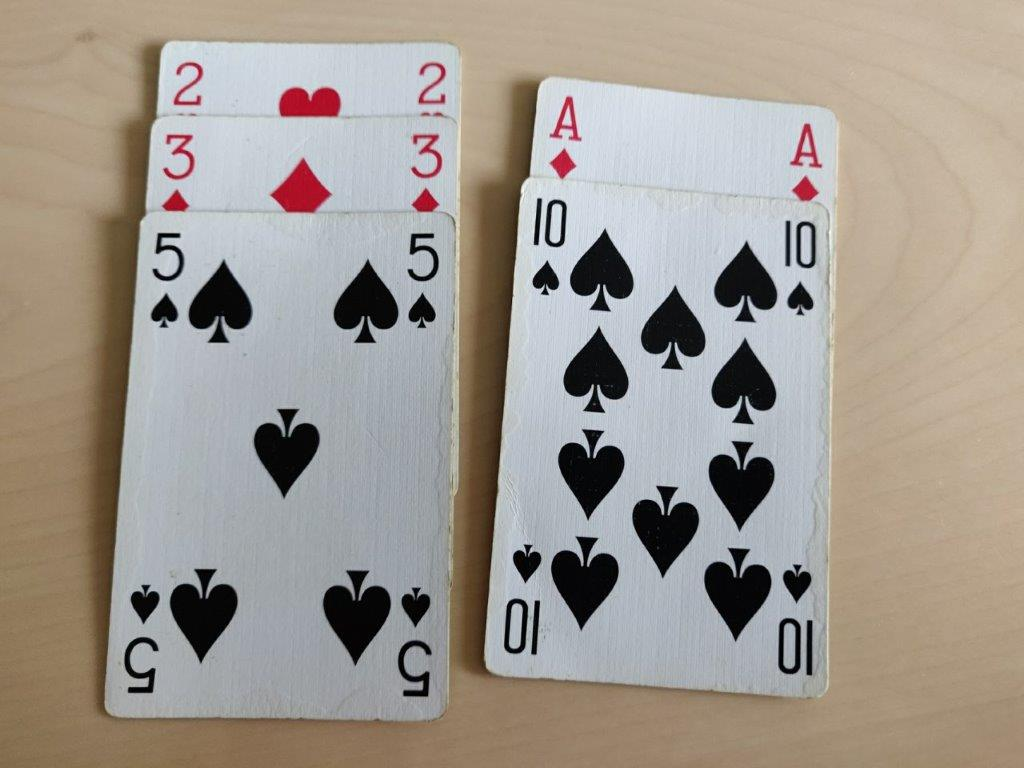10S: (519, 195, 572, 304), (779, 216, 827, 322)
2H: (409, 53, 453, 124)
3D: (156, 125, 197, 217), (405, 128, 446, 220)
5S: (143, 224, 185, 339), (404, 226, 446, 341)
AD: (545, 82, 588, 185), (784, 114, 824, 206)
